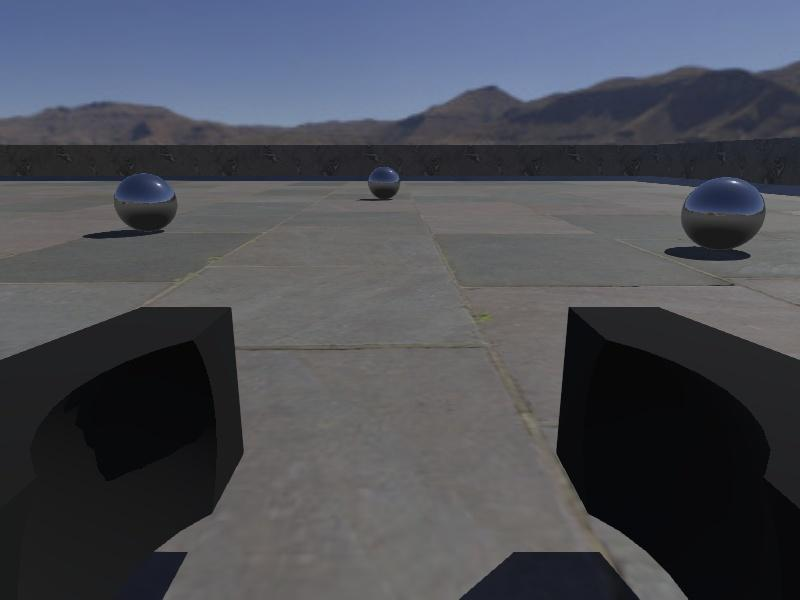steel ball: (680, 175, 767, 250), (112, 172, 179, 232), (368, 165, 401, 200)
